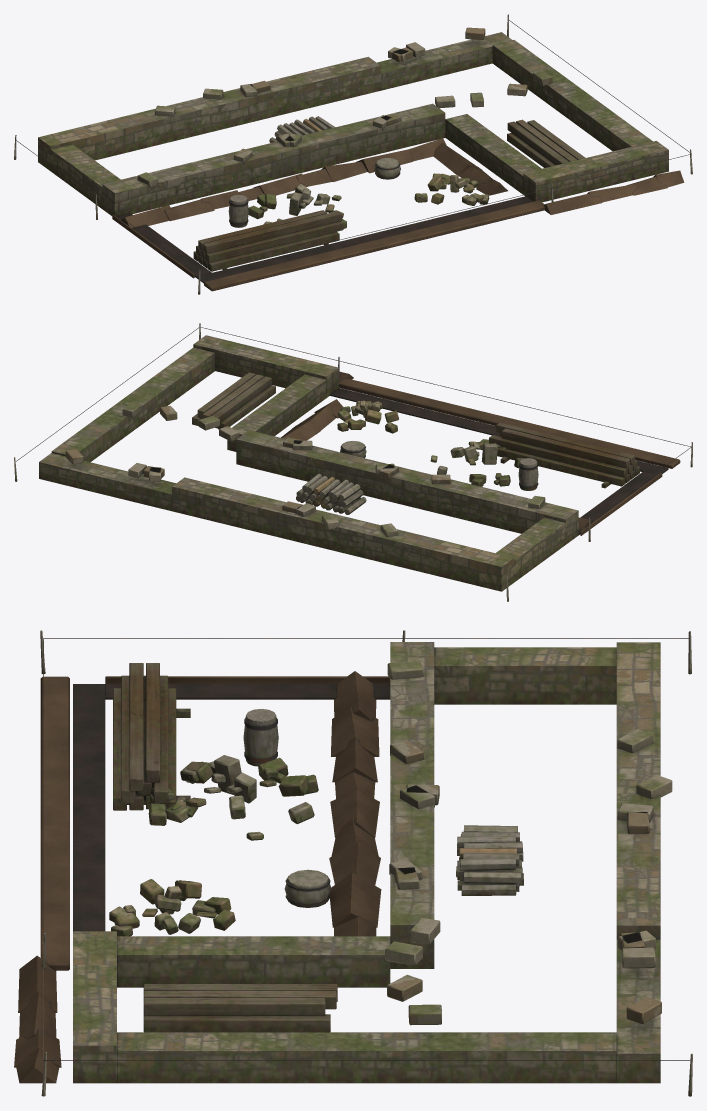
The model's file is barracks_build1.glb.
3 views of the same model, one above another, from view 1: azimuth 30°, elevation 25°; view 2: azimuth 150°, elevation 25°; view 3: azimuth 270°, elevation 25° (orthographic). The views are drawn at different scales.
Parts seen in each view (by area): view 1: barracks_build1_LOD0; view 2: barracks_build1_LOD0; view 3: barracks_build1_LOD0.
Part boxes in pixels (x1,y1,x2,y2): barracks_build1_LOD0: (14, 14, 692, 294); barracks_build1_LOD0: (14, 323, 692, 601); barracks_build1_LOD0: (14, 630, 692, 1096).
Size of what is drawn, in the model's own units: 17.09 by 1.04 by 11.55.
Materials: 1 (1 with a texture image).
